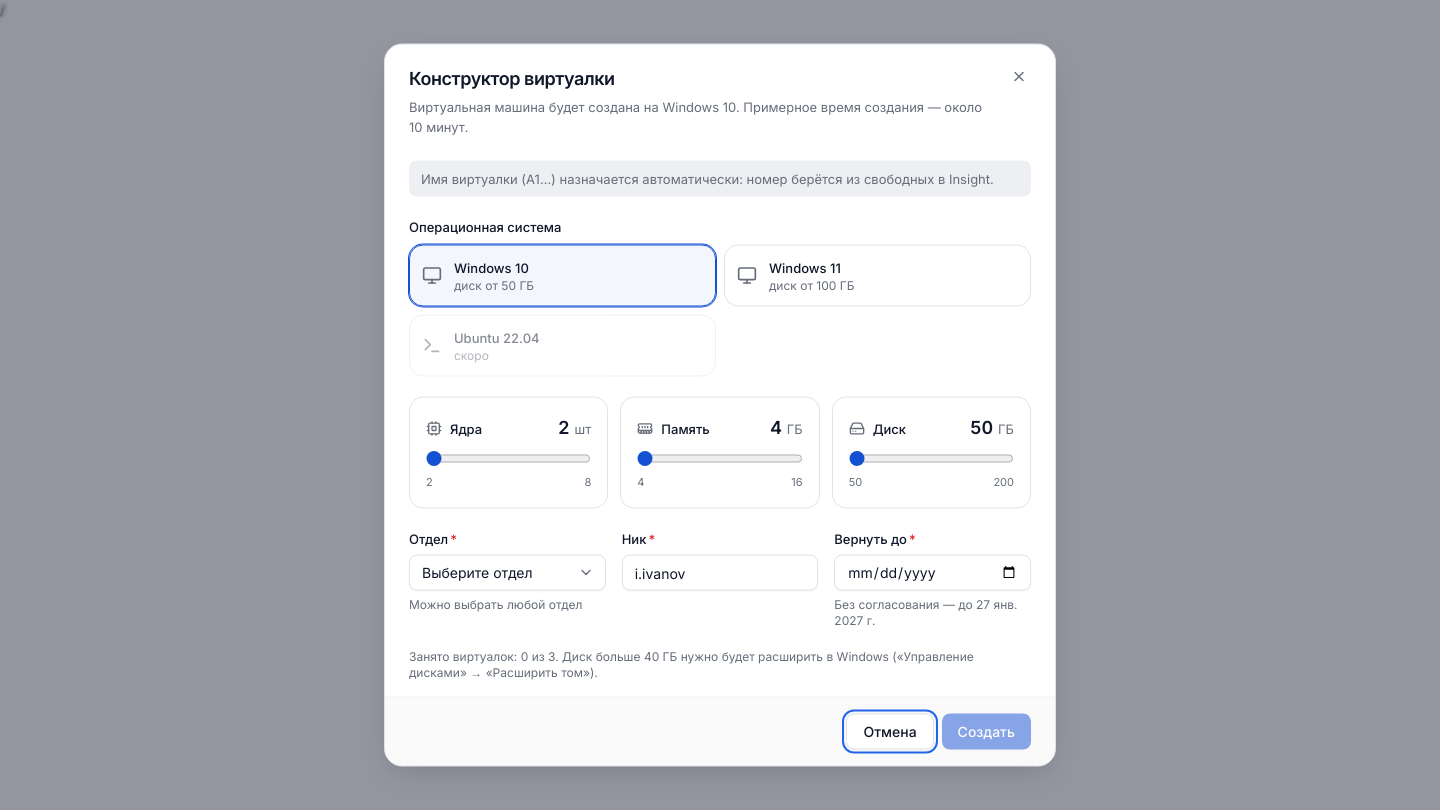
Scenario: VmBuilderDialog: выбор ОС › клик по другому доступному шаблону переключает выбор и описание
The width and height of the screenshot is (1440, 810).
Expected: the field labelled "Ник*" holds "i.ivanov", [622,554,818,590]
Expected: the text "будет создана на Windows 10" is shown, [409,98,982,134]
Click the button "Windows 11 диск от 100 ГБ": (805, 268) [724,244,1031,306]
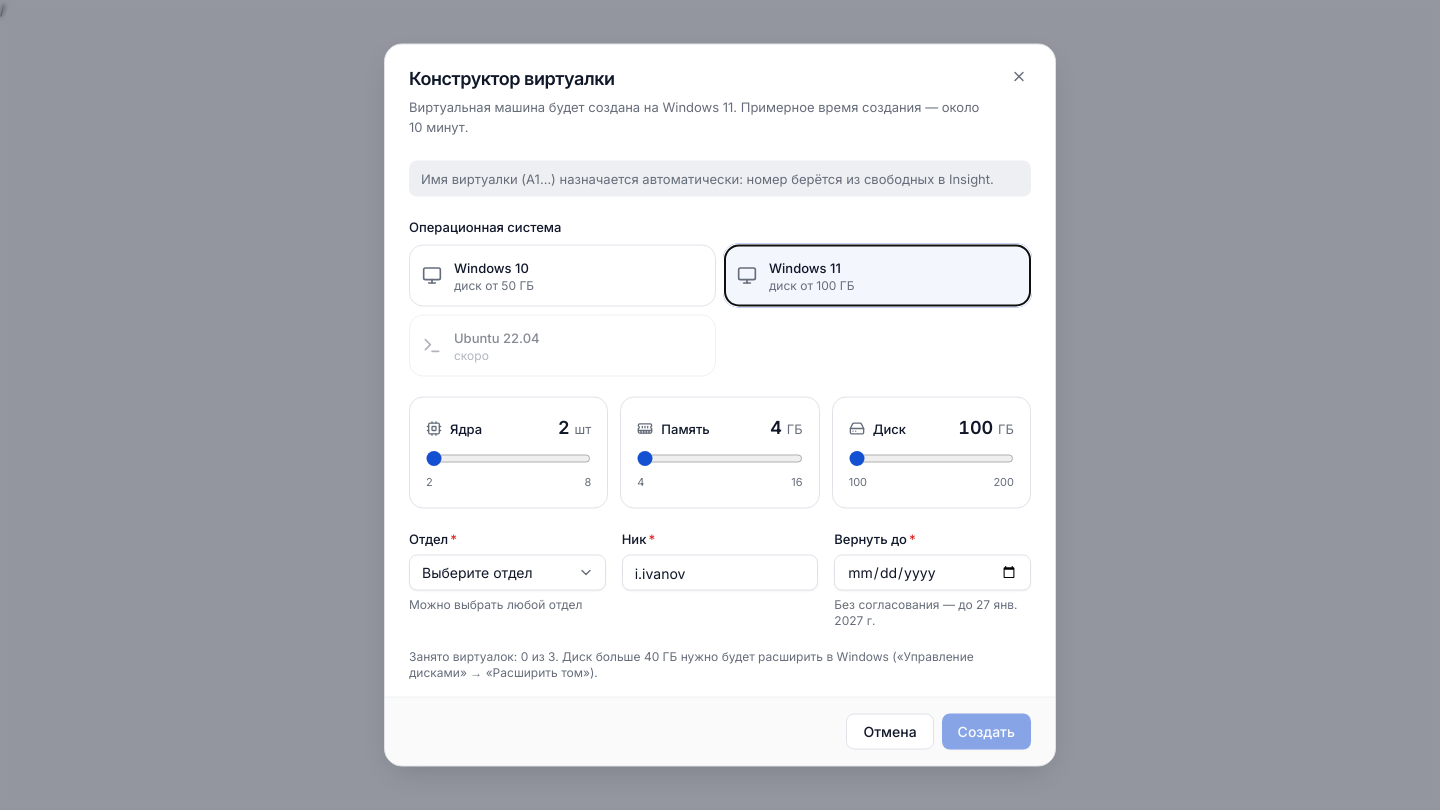
Expected: the text "будет создана на Windows 11" is shown, [409,98,979,134]
